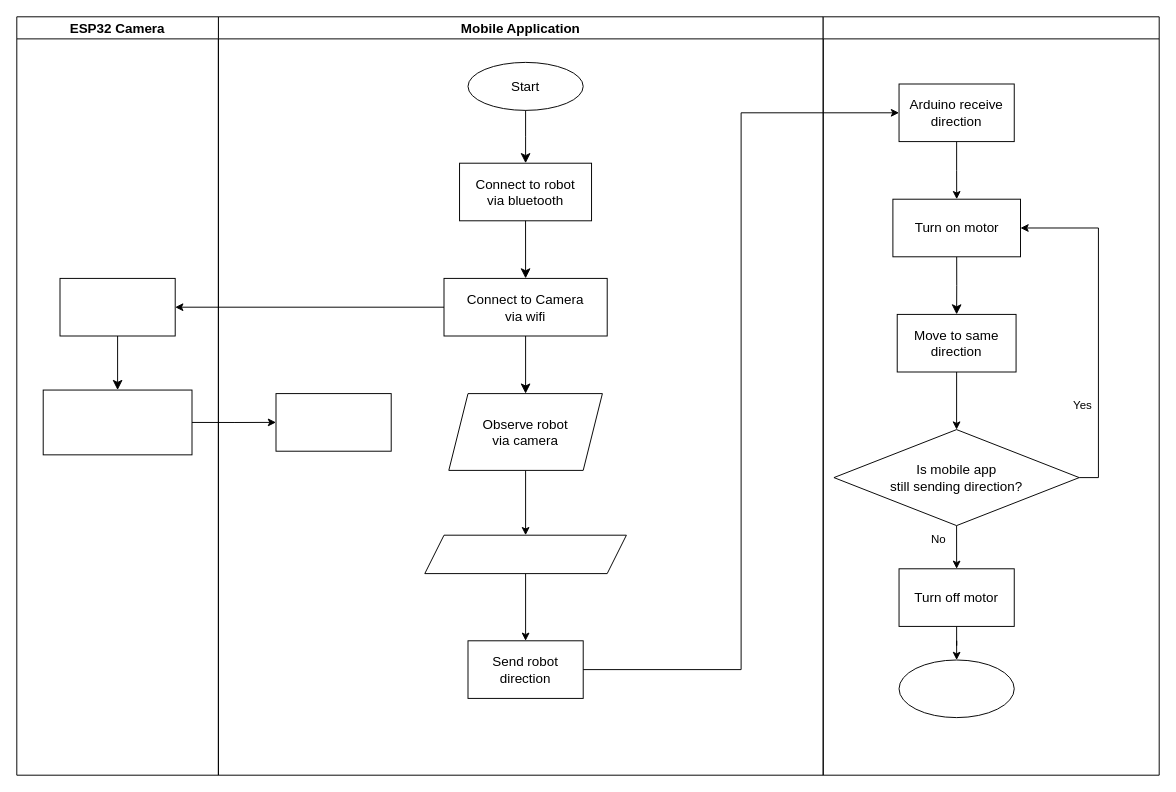
Some shapes in this 1176 by 792 pixel diagram are drawn without their labels. Each missing label, with the box of its shape:
AMWR Robot: (822, 16, 1159, 775)
Choose direction: (424, 534, 626, 574)
Display camera images: (275, 393, 391, 451)
End: (898, 659, 1014, 718)
Record layout: (59, 277, 175, 336)
Send recorded images via websocket: (42, 389, 192, 455)
